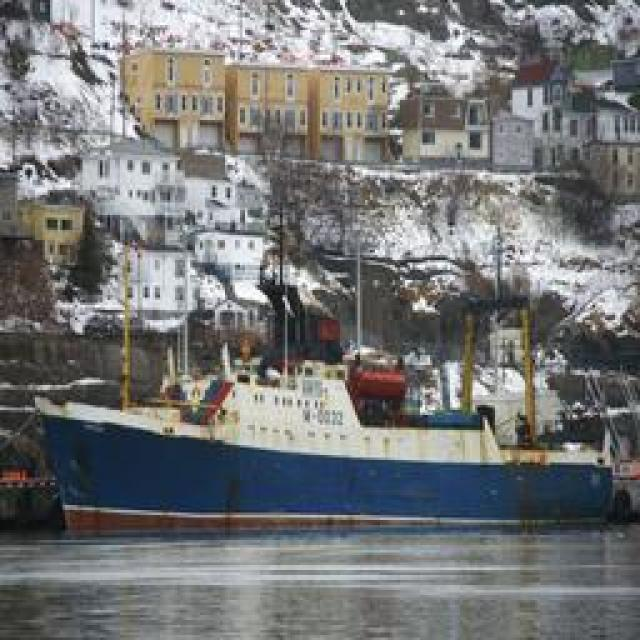CIV_Ship: (29, 354, 619, 528)
